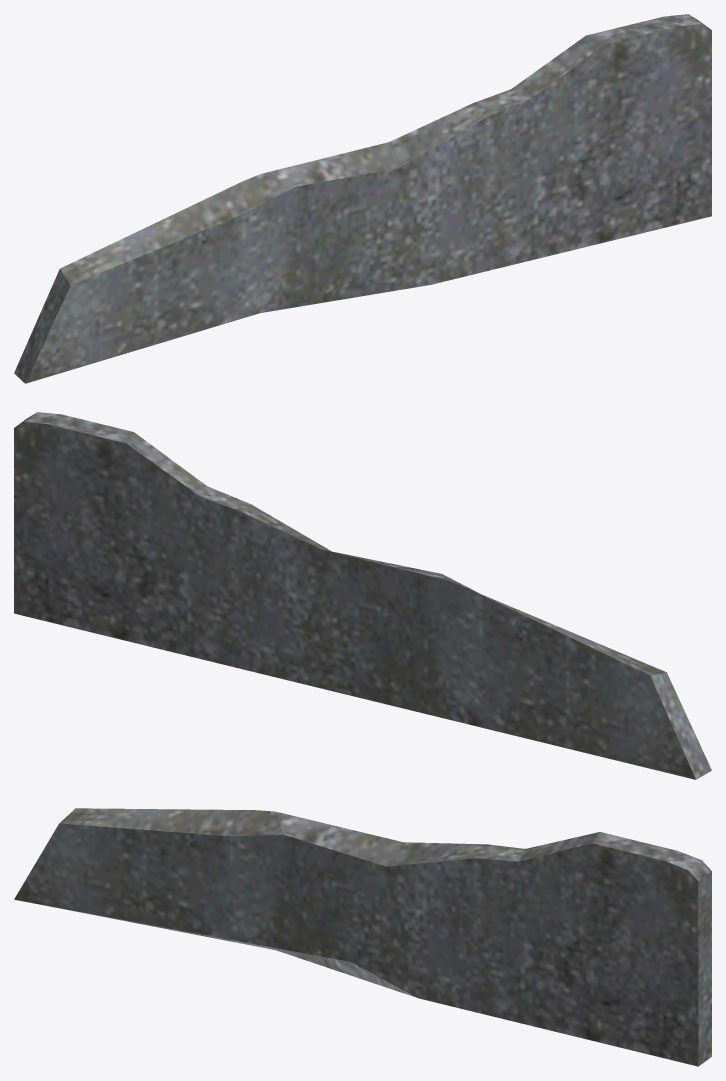
File: plackard_slab_boken.fbx
3 renders of one model, top to bottom at view 1: azimuth 30°, elevation 25°; view 2: azimuth 150°, elevation 25°; view 3: azimuth 330°, elevation 25°, orthographic.
Parts seen in each view (by area): view 1: Body; view 2: Body; view 3: Body.
Boxes of the visible parts, <box> form: Body: <box>14,14,711,383</box>; Body: <box>14,412,711,779</box>; Body: <box>14,808,711,1066</box>.
Bounding box in the file's own units: 290 × 80 × 10.
